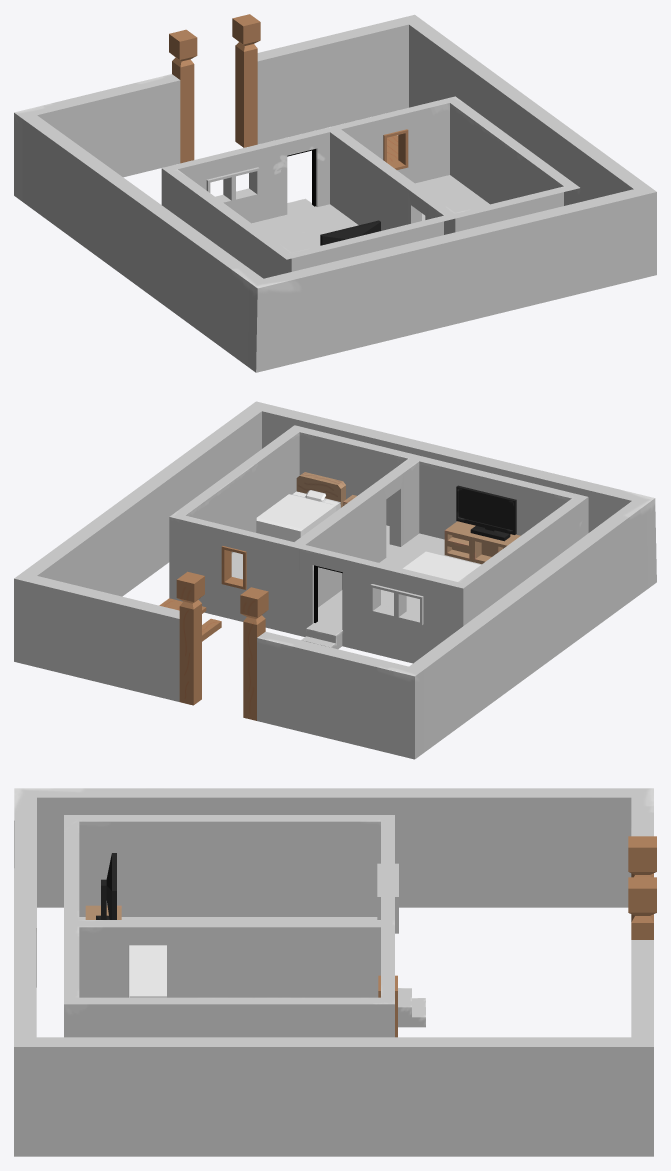
File: houses.fbx
3 renders of one model, top to bottom at view 1: azimuth 30°, elevation 25°; view 2: azimuth 150°, elevation 25°; view 3: azimuth 270°, elevation 25°, orthographic. The views are drawn at different scales.
Parts seen in each view (by area): view 1: Plane; view 2: Plane; view 3: Plane.
Boxes of the visible parts, left/top/right/bottom form: Plane: left=14, top=14, right=656, bottom=372; Plane: left=14, top=401, right=656, bottom=759; Plane: left=14, top=788, right=656, bottom=1156.
Bounding box in the file's own units: 1809 × 530 × 1901.
Materials: 1 (1 with a texture image).
